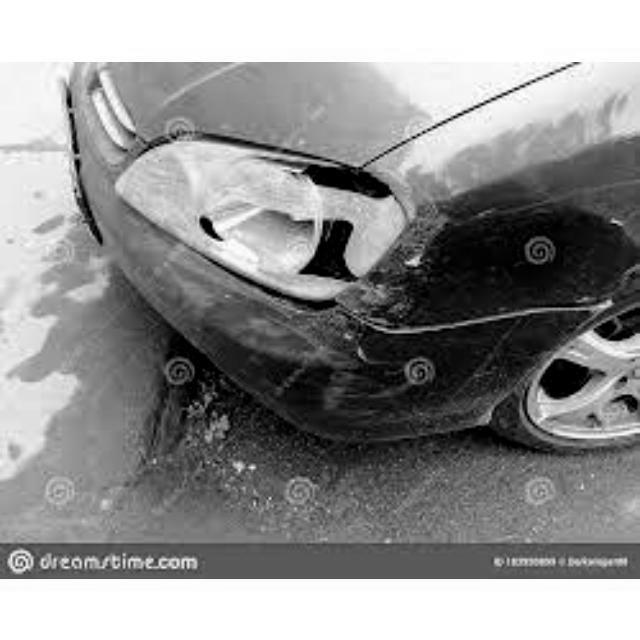Headlight-damage: (118, 136, 448, 325)
fender-dent: (375, 133, 638, 363)
front-bumper-dent: (85, 312, 602, 442)
